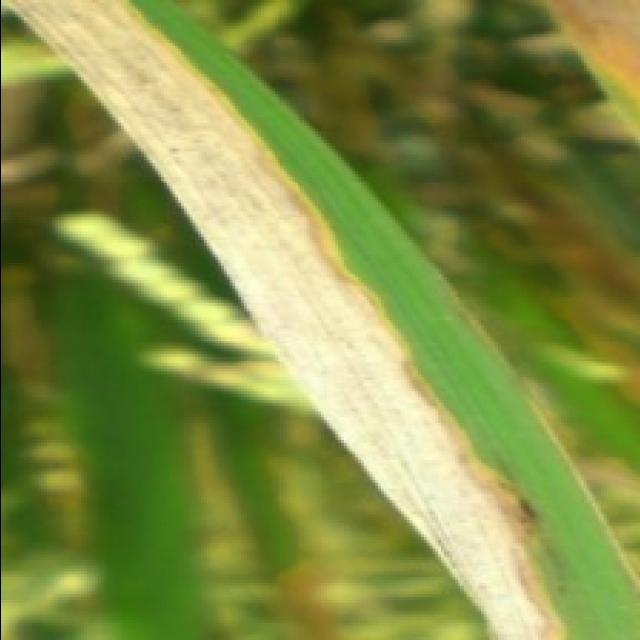Unhealthy: (0, 0, 570, 640), (528, 390, 640, 585), (543, 0, 640, 106)
